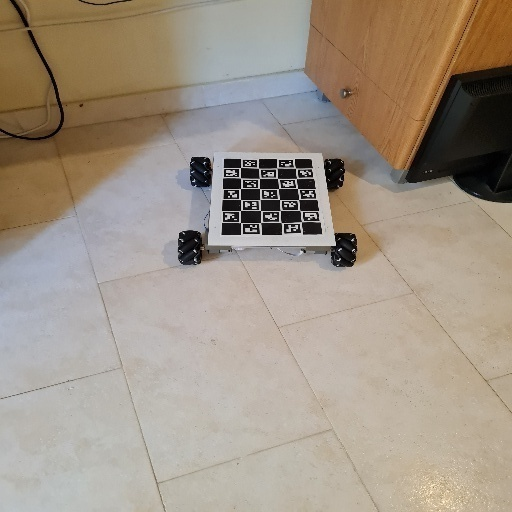Omniwheel: (178, 150, 358, 268)
